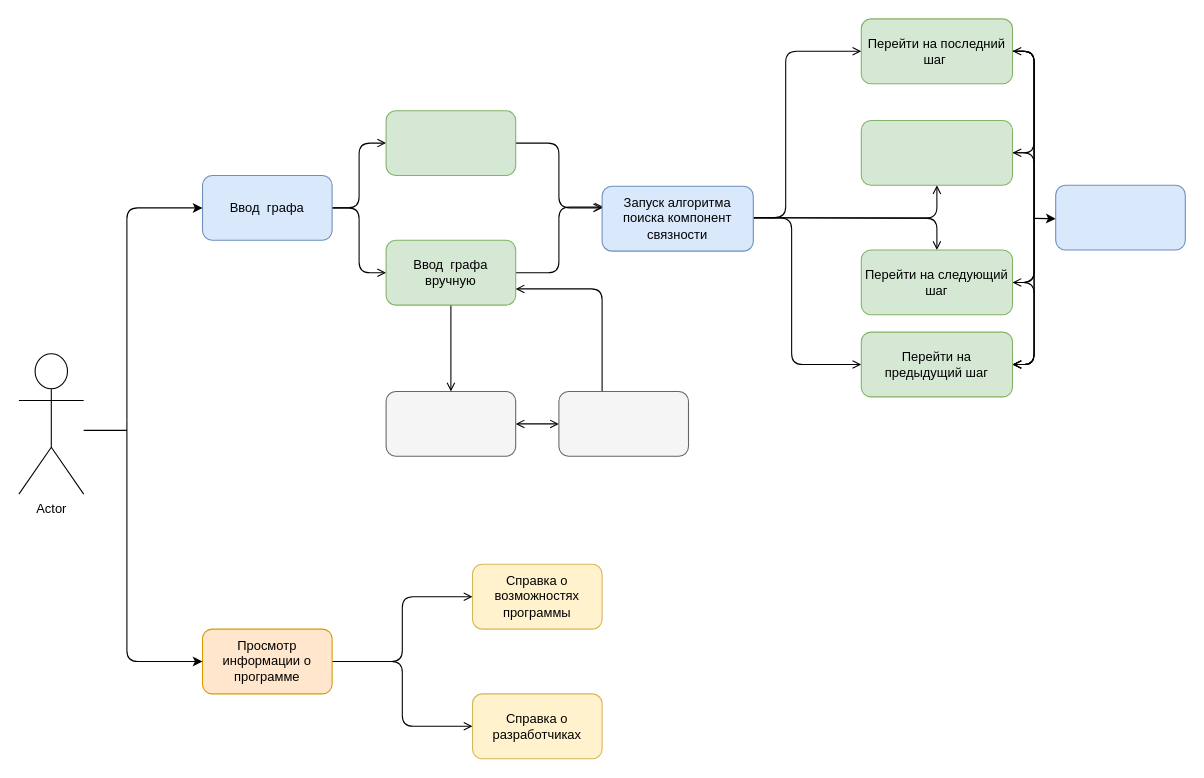
Image size: 1204x778. Some labels were removed from this diagram. The shapes that lost their labels are listed below. From the top down, each one's centre as x and y in pixels, then its label:
At point 450,143: "Ввод графа из файла".
At point 936,152: "Перейти на первый шаг".
At point 1120,217: "Результат".
At point 450,423: "Добавление и удаление вершиин".
At point 623,423: "Добавление и удаление ребер".
